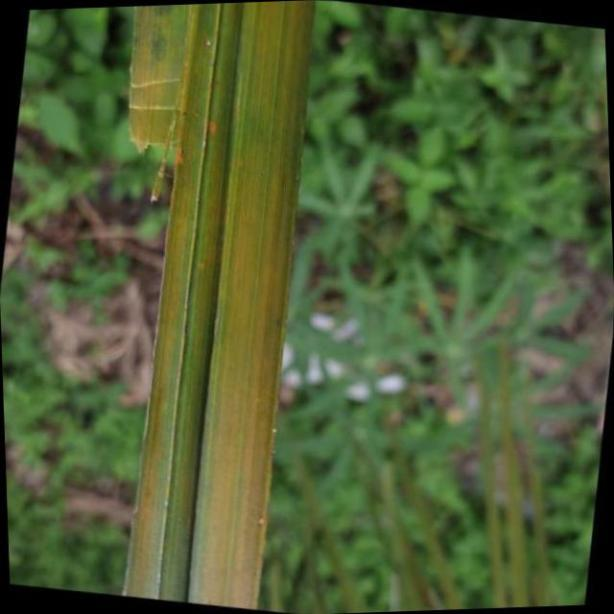Megnesium: (123, 0, 317, 614)
